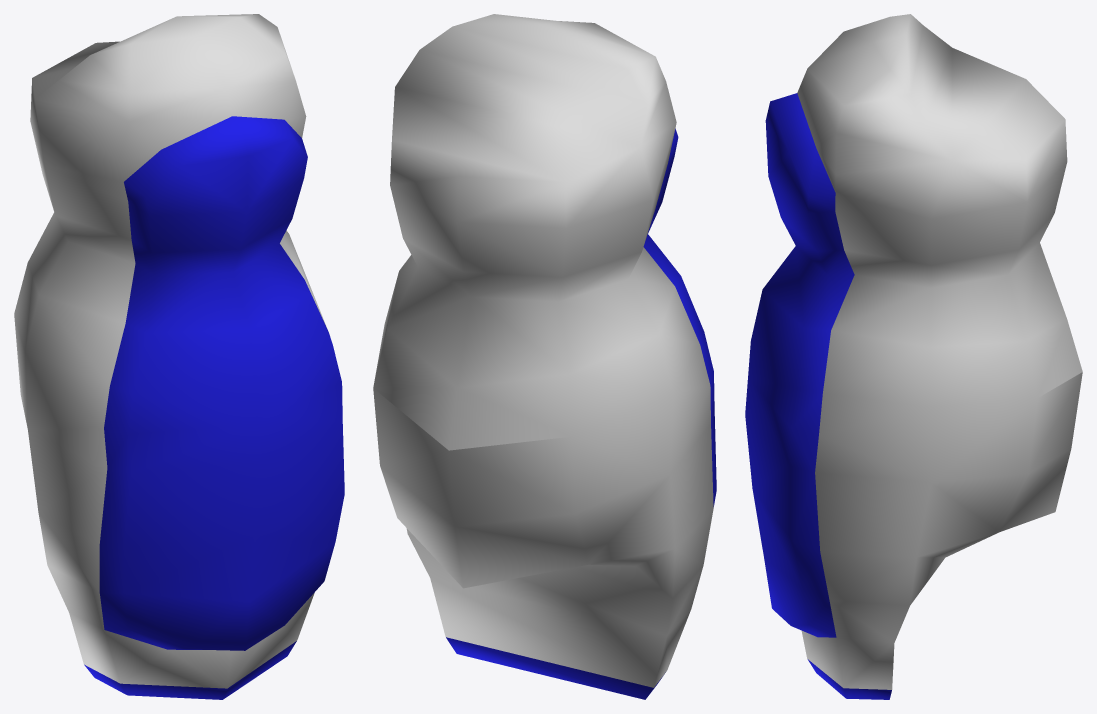
The model's file is llowerarm.obj.
3 renders of one model, left to right at view 1: azimuth 30°, elevation 25°; view 2: azimuth 150°, elevation 25°; view 3: azimuth 270°, elevation 25°, orthographic. The views are drawn at different scales.
Parts seen in each view (by area): view 1: lowerarm.002_Sphere.005; view 2: lowerarm.002_Sphere.005; view 3: lowerarm.002_Sphere.005.
Part boxes in pixels (x1,y1,x2,y2): lowerarm.002_Sphere.005: (14,14,344,699); lowerarm.002_Sphere.005: (373,14,716,699); lowerarm.002_Sphere.005: (745,14,1082,699).
Bounding box in the file's own units: 0.0616 × 0.1377 × 0.066.
